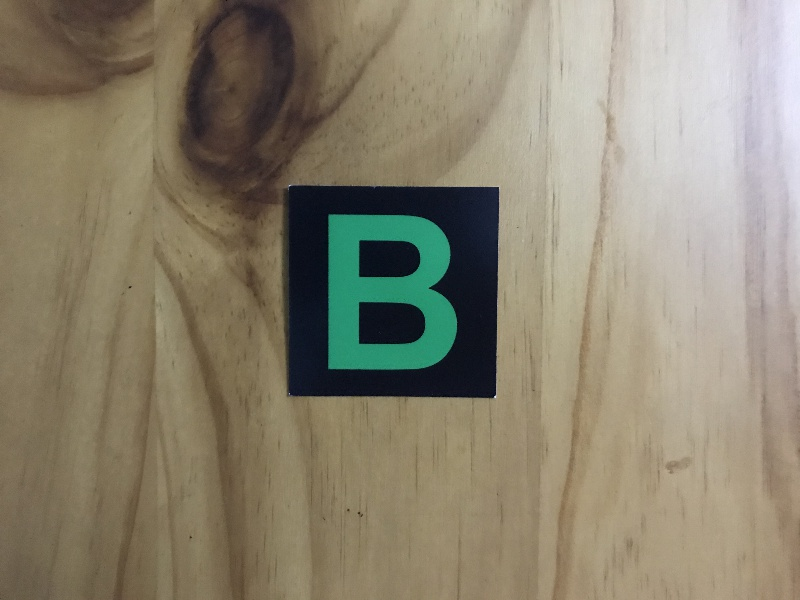B-12: (292, 190, 494, 395)
